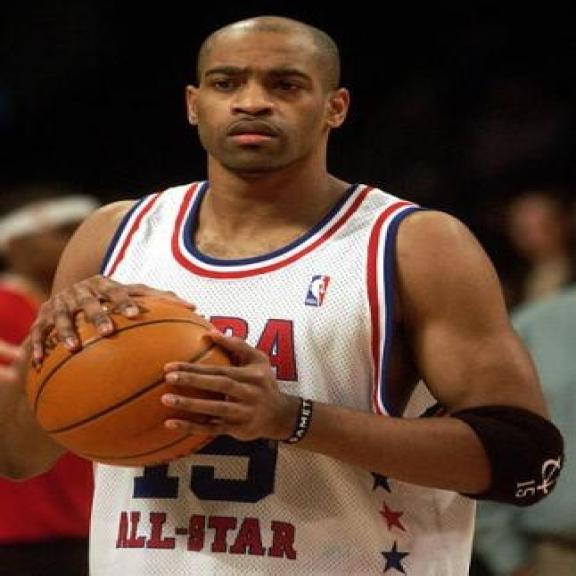face: (182, 28, 353, 179)
